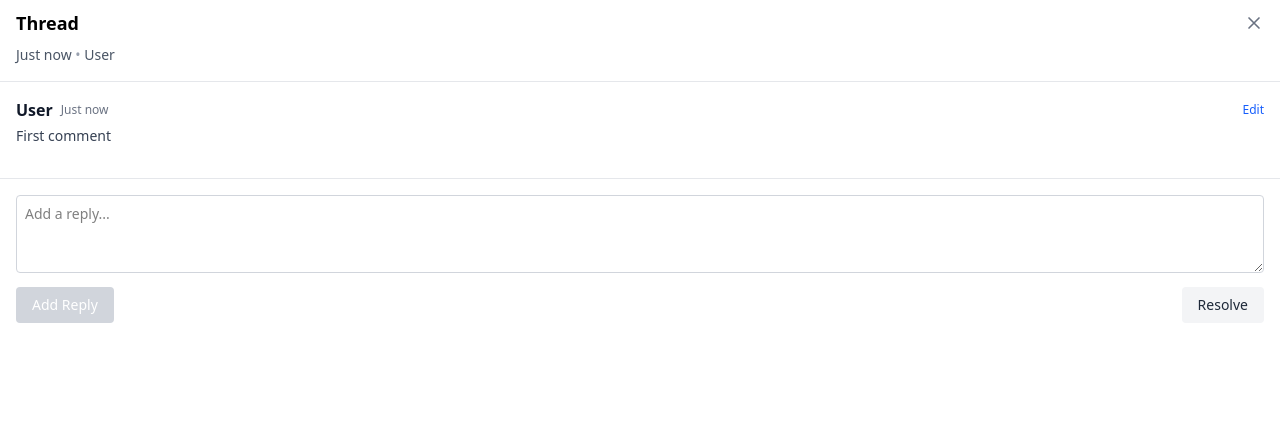
Test case: ThreadPanel › exits edit mode when cancel is clicked
Click the button "Edit". click: (1253, 110)
box: [1242,102,1264,118]
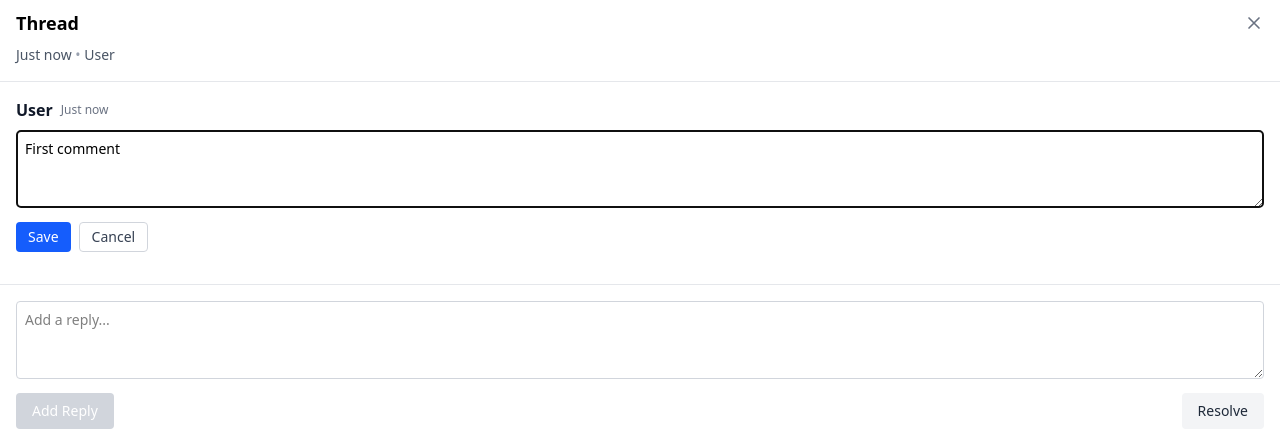
Click the button "Cancel". click: (113, 237)
box: [79,222,148,252]
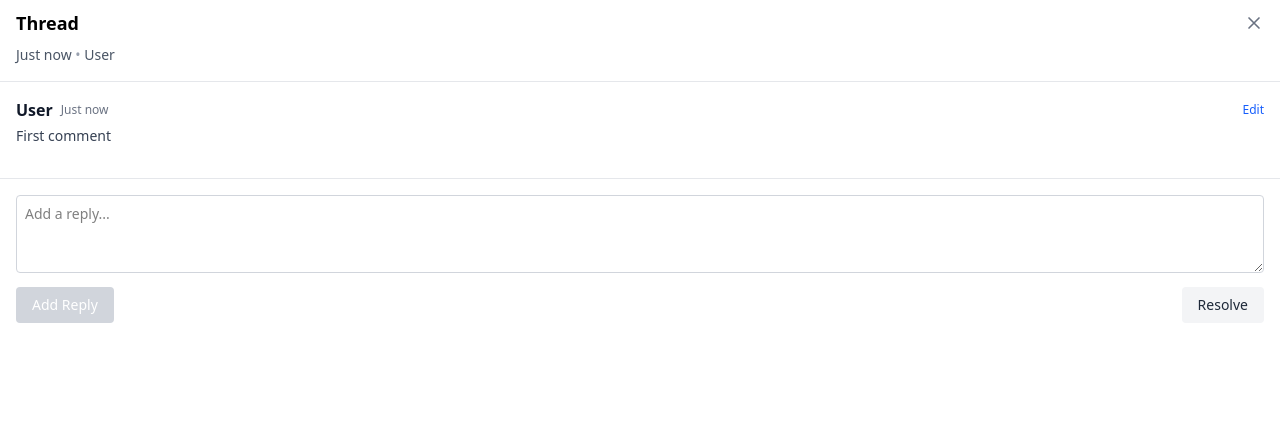
Now the button "Edit" is shown, box [1242,102,1264,118]
Now the button "Save" is gone
